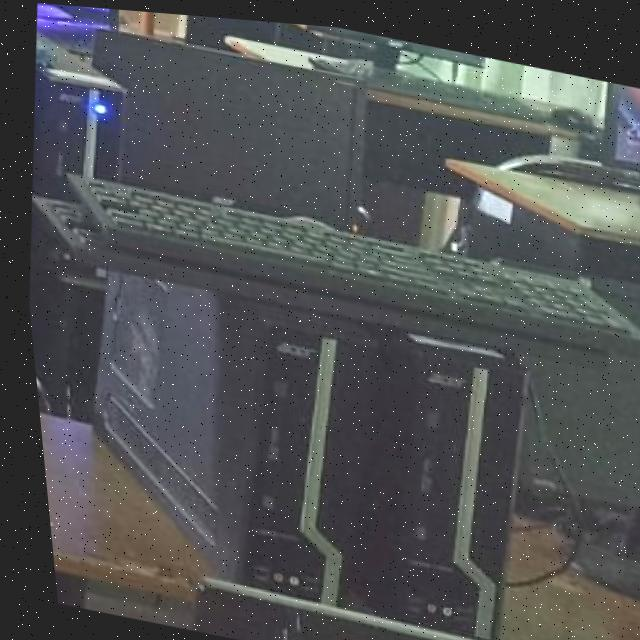offscreen: (116, 40, 367, 219)
